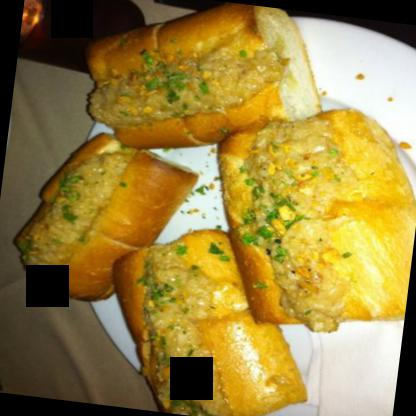toast bread: (197, 96, 415, 340), (95, 216, 326, 415), (77, 0, 325, 168), (13, 113, 200, 308)
